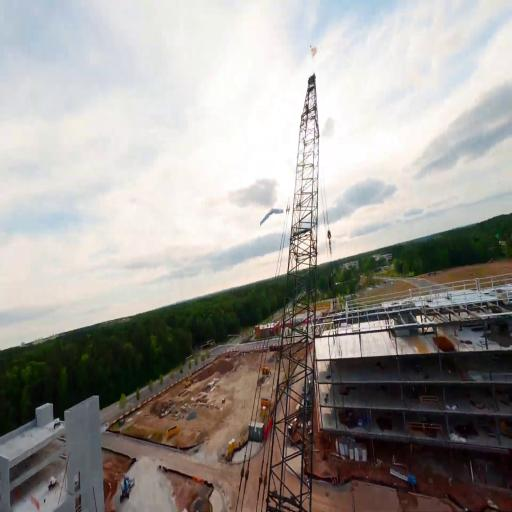uav: (258, 207, 286, 226)
